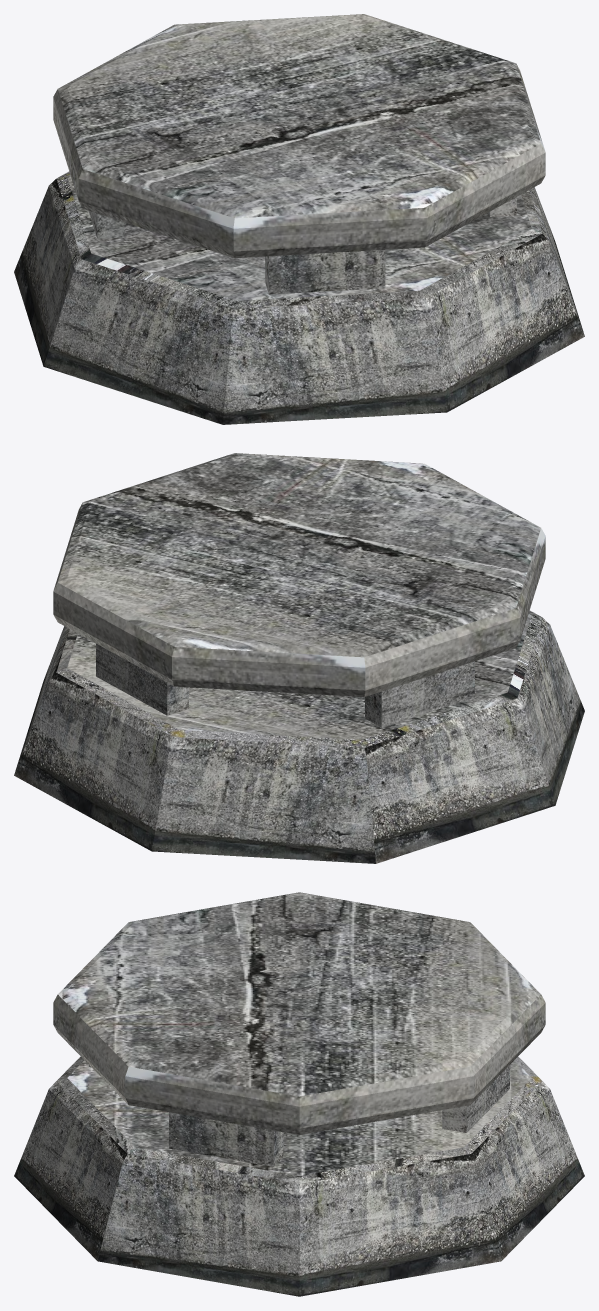
File: bunker.fbx
3 renders of one model, top to bottom at view 1: azimuth 30°, elevation 25°; view 2: azimuth 150°, elevation 25°; view 3: azimuth 270°, elevation 25°, orthographic. The views are drawn at different scales.
Visible parts, largest first — view 1: Cube; view 2: Cube; view 3: Cube.
Boxes of the visible parts, bbox=[...] form: Cube: bbox=[14, 14, 584, 424]; Cube: bbox=[14, 453, 584, 863]; Cube: bbox=[14, 892, 584, 1296].
Size of the model in its own units: 2 by 0.7153 by 2.
